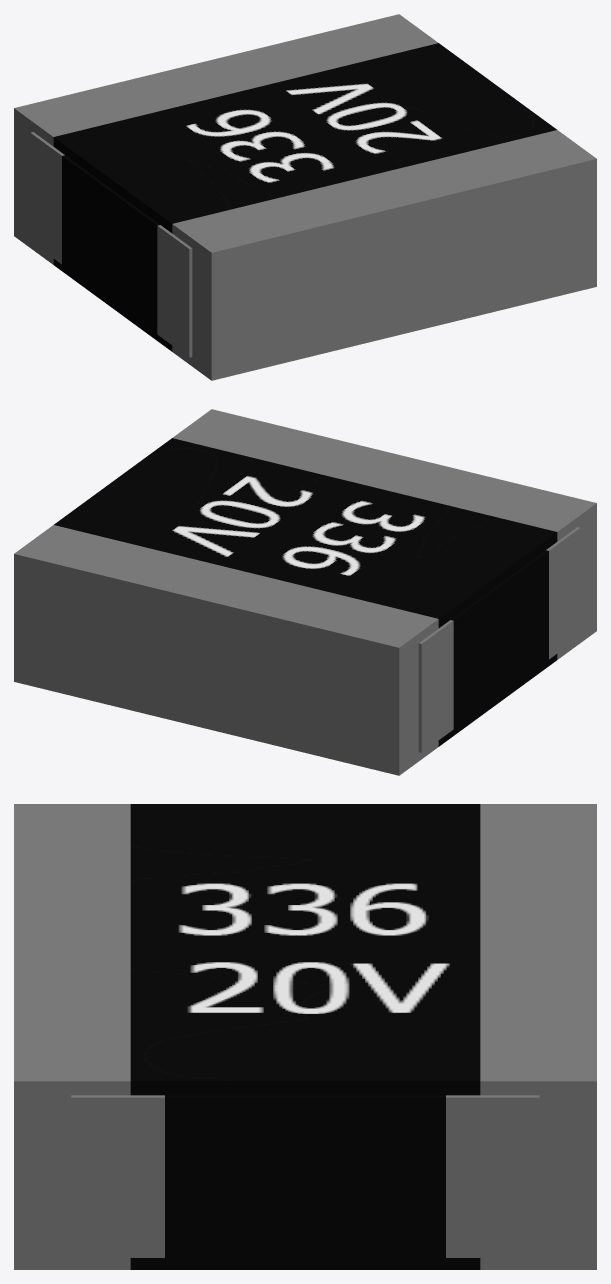
The model's file is Конденсаторы керамические SMD.fbx.
3 renders of one model, top to bottom at view 1: azimuth 30°, elevation 25°; view 2: azimuth 150°, elevation 25°; view 3: azimuth 270°, elevation 25°, orthographic. The views are drawn at different scales.
Visible parts, largest first — view 1: 5664, 4564, 5650; view 2: 5664, 5650, 4564; view 3: 5664, 4564.
Part boxes in pixels (x1,y1,x2,y2): 5664: [14, 14, 596, 380]; 4564: [30, 132, 192, 357]; 5650: [251, 186, 553, 364]; 5664: [14, 409, 596, 775]; 5650: [53, 570, 359, 759]; 4564: [418, 527, 580, 752]; 5664: [14, 804, 596, 1269]; 4564: [71, 1095, 539, 1257].
Size of the model in its own units: 0.0064 by 0.002 by 0.0056.
Materials: 1 (1 with a texture image).
